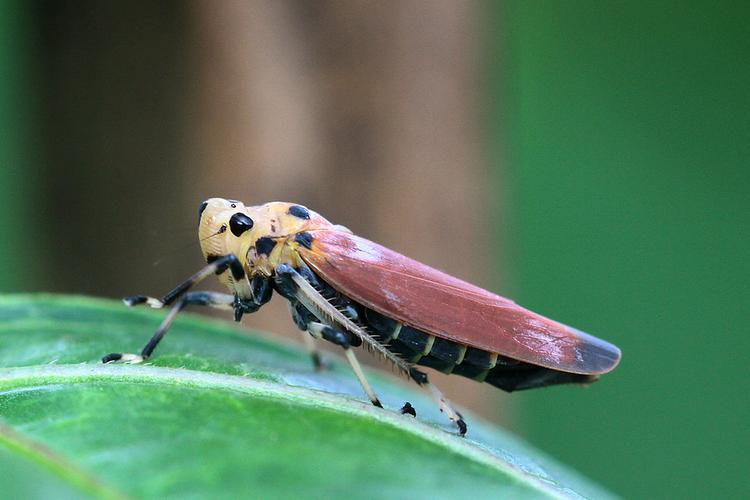Cicadellidae: (101, 193, 622, 440)
